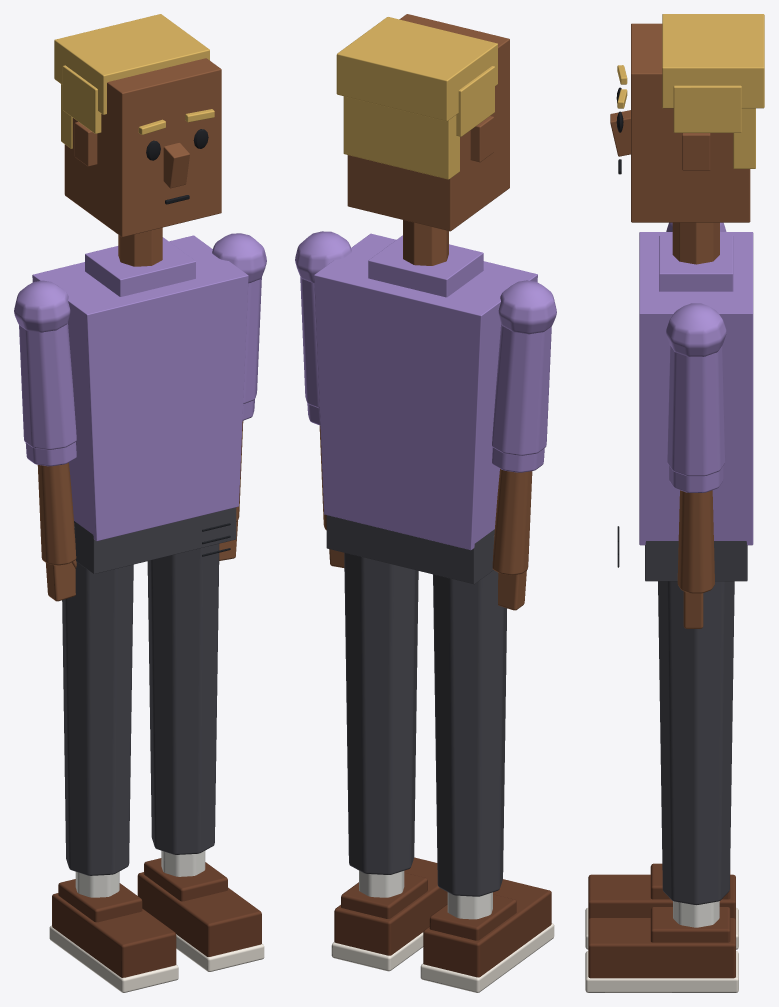
File: Diner_C.glb
3 views of the same model, side by side, from view 1: azimuth 30°, elevation 25°; view 2: azimuth 150°, elevation 25°; view 3: azimuth 270°, elevation 25° (orthographic). The views are drawn at different scales.
Visible parts, largest first — view 1: Diner_C_Torso, Diner_C_LegL, Diner_C_Head, Diner_C_LegR, Diner_C_ArmL, Diner_C_ForearmL, Diner_C_ArmR, Diner_C_ForearmR; view 2: Diner_C_Torso, Diner_C_LegL, Diner_C_Head, Diner_C_LegR, Diner_C_ArmL, Diner_C_ForearmL, Diner_C_ArmR, Diner_C_ForearmR; view 3: Diner_C_LegR, Diner_C_Head, Diner_C_Torso, Diner_C_ArmR, Diner_C_ForearmR, Diner_C_LegL.
Part boxes in pixels (x1,y1,x2,y2): Diner_C_Torso: (32, 227, 248, 573); Diner_C_LegL: (49, 526, 178, 992); Diner_C_Head: (54, 14, 221, 237); Diner_C_LegR: (137, 544, 264, 971); Diner_C_ArmL: (14, 280, 76, 449); Diner_C_ForearmL: (25, 442, 76, 601); Diner_C_ArmR: (212, 233, 266, 403); Diner_C_ForearmR: (219, 399, 254, 560); Diner_C_Torso: (314, 220, 537, 584); Diner_C_LegL: (420, 535, 554, 992); Diner_C_Head: (336, 14, 509, 231); Diner_C_LegR: (331, 553, 447, 971); Diner_C_ArmL: (492, 280, 556, 455); Diner_C_ForearmL: (492, 447, 544, 610); Diner_C_ArmR: (295, 231, 351, 408); Diner_C_ForearmR: (307, 403, 344, 567); Diner_C_LegR: (585, 581, 738, 992); Diner_C_Head: (610, 14, 764, 222); Diner_C_Torso: (617, 222, 753, 581); Diner_C_ArmR: (666, 303, 726, 476); Diner_C_ForearmR: (669, 465, 723, 628); Diner_C_LegL: (585, 863, 738, 949).
Size of the model in its own units: 0.5128 by 1.78 by 0.315.
